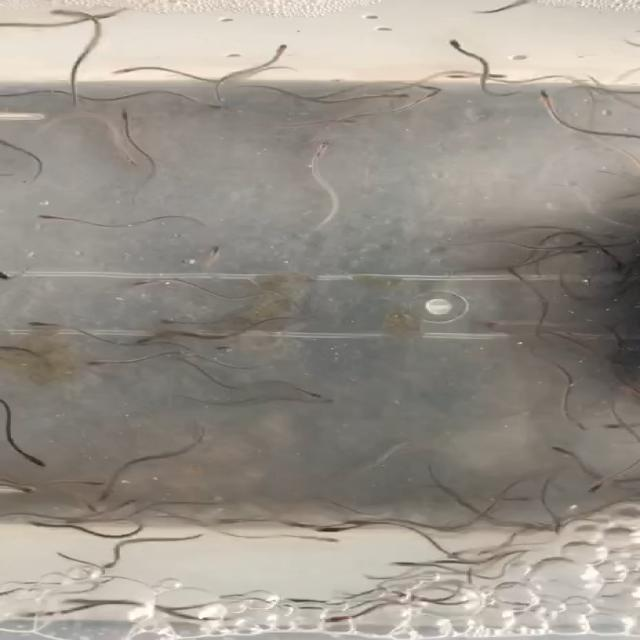active_glass_eel: (296, 516, 356, 535), (436, 38, 488, 58), (312, 610, 360, 630), (473, 318, 518, 339), (439, 545, 493, 561), (512, 518, 560, 536), (21, 318, 74, 334), (298, 383, 340, 402), (548, 444, 590, 463), (180, 102, 240, 115), (43, 7, 97, 21), (128, 334, 186, 347), (112, 108, 143, 132), (314, 117, 366, 131), (532, 86, 562, 110), (112, 278, 171, 290), (132, 317, 191, 329), (25, 452, 59, 472), (32, 210, 80, 224), (23, 608, 66, 623), (601, 418, 640, 434), (497, 491, 538, 506), (0, 480, 47, 493), (20, 518, 66, 531), (563, 238, 603, 252), (80, 356, 134, 366), (387, 558, 432, 570), (309, 138, 340, 155), (264, 593, 303, 606), (584, 479, 612, 497), (608, 258, 636, 276), (100, 66, 138, 79), (104, 551, 130, 570), (313, 534, 354, 546), (264, 40, 288, 60), (440, 71, 480, 83), (566, 245, 598, 259), (475, 68, 508, 81), (201, 243, 223, 262), (70, 478, 108, 489), (0, 266, 22, 284), (498, 264, 520, 282), (373, 90, 412, 100), (214, 344, 244, 356), (568, 419, 590, 432)
